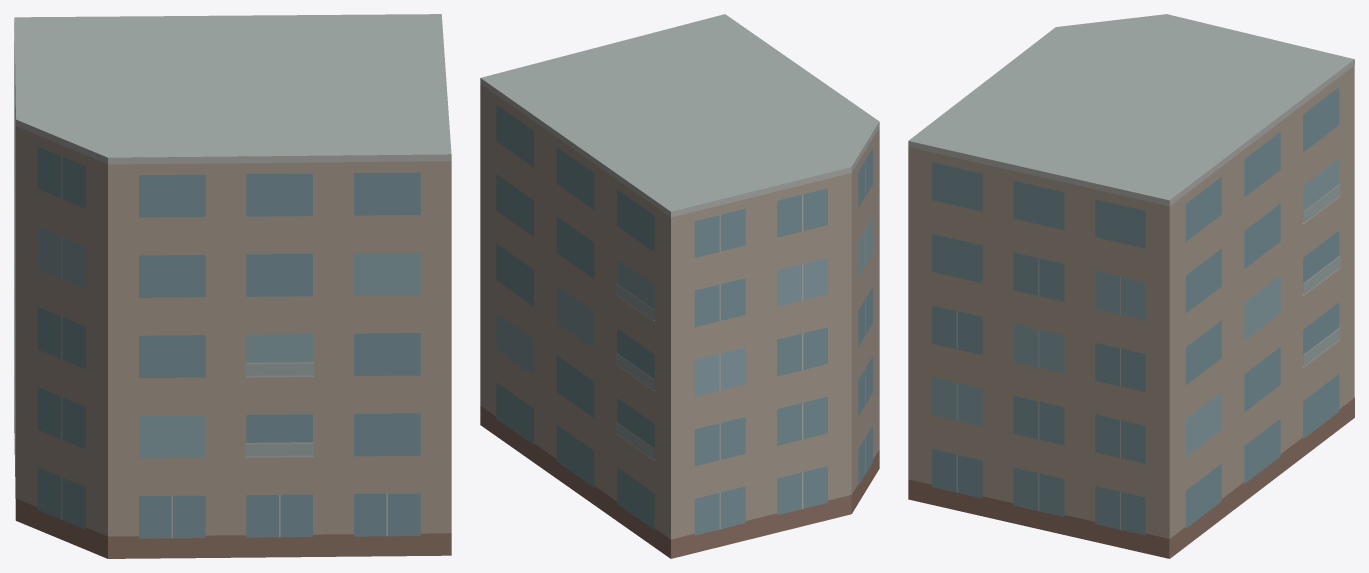
The model's file is survey-upis-32961259.glb.
3 renders of one model, left to right at view 1: azimuth 30°, elevation 25°; view 2: azimuth 150°, elevation 25°; view 3: azimuth 270°, elevation 25°, orthographic. The views are drawn at different scales.
Visible parts, largest first — view 1: survey-upis-32961259.tmp; view 2: survey-upis-32961259.tmp; view 3: survey-upis-32961259.tmp.
Part boxes in pixels (left/top/right/bottom): survey-upis-32961259.tmp: left=14, top=14, right=451, bottom=558; survey-upis-32961259.tmp: left=480, top=14, right=879, bottom=558; survey-upis-32961259.tmp: left=908, top=14, right=1354, bottom=558.
Bounding box in the file's own units: 16.29 × 14.6 × 16.49.
